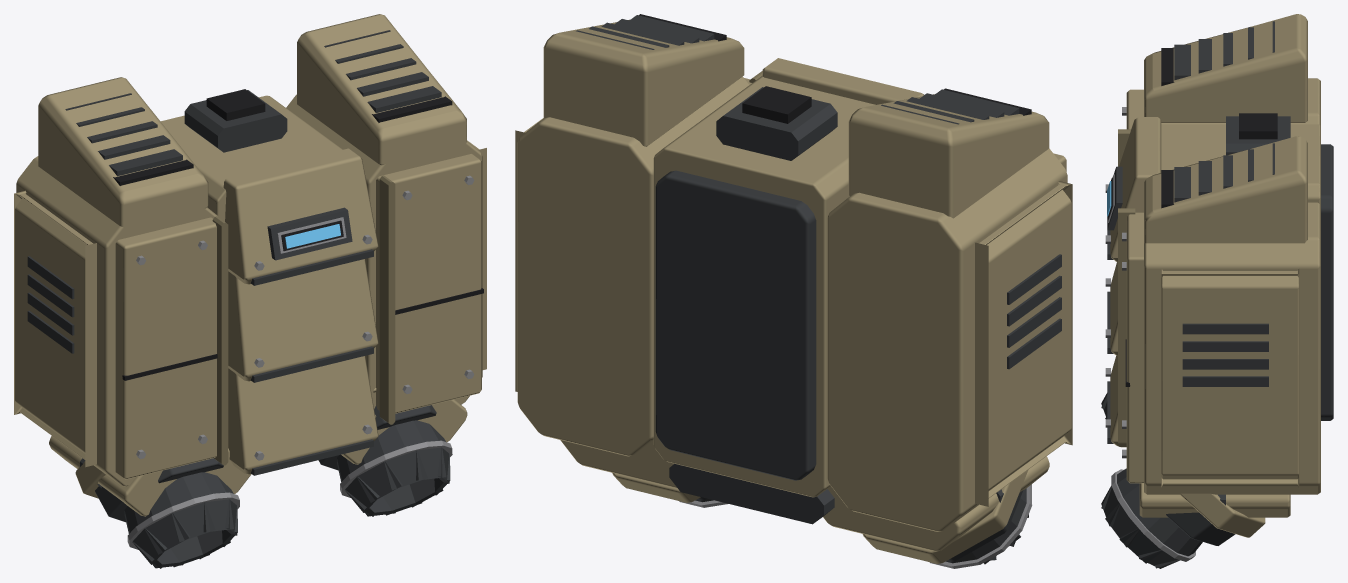
Rendered from backpack_jet.glb.
The picture shows the model from 3 angles, left to right: view 1: azimuth 30°, elevation 25°; view 2: azimuth 150°, elevation 25°; view 3: azimuth 270°, elevation 25°; orthographic projection. The views are drawn at different scales.
Visible parts, largest first — view 1: ColumnArmorL, ColumnArmorR, BolsterL, IntakeL, IntakeR, Shingle1, Shingle0, Shingle2, ColumnL, Center, ColumnEdgeR, ColumnR (+36 smaller); view 2: ColumnL, MountPlate, ColumnR, BolsterL, Center, IntakeR, IntakeL, Latch, Skid, NozzleHousing1, Shingle2, NozzleCollar1 (+12 smaller); view 3: BolsterR, ColumnR, IntakeR, IntakeL, ColumnArmorR, Center, MountPlate, Shingle2, NozzleHousing2, ColumnEdgeR, Nozzle2, NozzleCollar2 (+25 smaller).
Part boxes in pixels (x1,y1,x2,y2): ColumnArmorL: (115,217,216,479); ColumnArmorR: (376,154,481,413); BolsterL: (14,190,96,467); IntakeL: (38,77,208,227); IntakeR: (297,14,466,165); Shingle1: (228,259,378,381); Shingle0: (228,356,378,474); Shingle2: (223,148,378,284); ColumnL: (16,156,218,486); Center: (161,95,342,221); ColumnEdgeR: (379,175,395,424); ColumnR: (286,94,482,408); ColumnL: (827,148,1067,531); MountPlate: (655,170,816,480); ColumnR: (517,76,749,456); BolsterL: (975,181,1072,506); Center: (653,76,875,497); IntakeR: (543,19,744,146); IntakeL: (848,94,1049,218); Latch: (716,87,837,160); Skid: (669,463,834,524); NozzleHousing1: (823,456,1049,551); Shingle2: (762,58,923,104); NozzleCollar1: (862,470,1028,563); BolsterR: (1161,269,1299,487); ColumnR: (1144,202,1320,494); IntakeR: (1144,136,1307,243); IntakeL: (1144,14,1307,122); ColumnArmorR: (1126,212,1143,483); Center: (1161,124,1320,204); MountPlate: (1321,144,1333,420); Shingle2: (1110,117,1161,262); NozzleHousing2: (1139,483,1290,517); ColumnEdgeR: (1118,208,1135,443); Nozzle2: (1117,468,1202,556); NozzleCollar2: (1180,493,1265,537).
Bounding box in the file's own units: 2.1 × 2.15 × 1.08.
